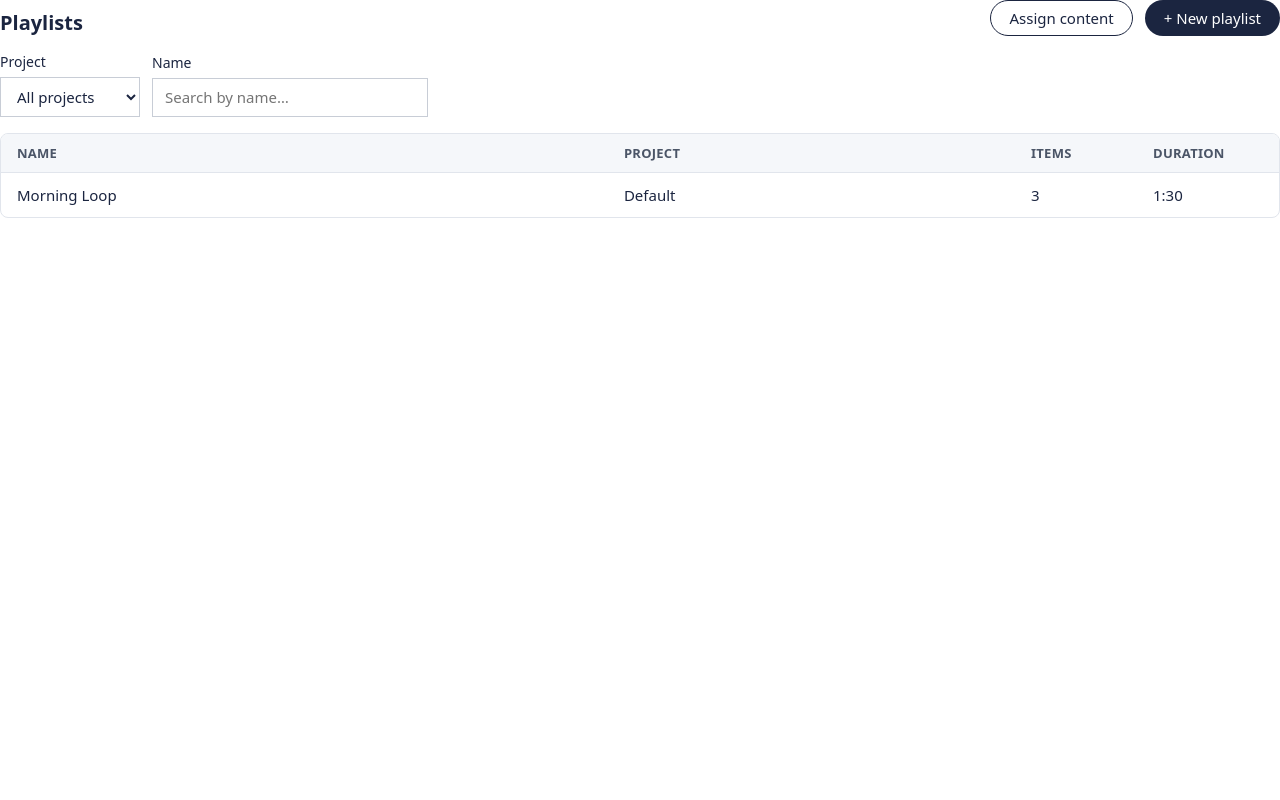
PlaylistsPage — reorder wiring › rolls back to the server order and shows the backend message verbatim on 400
Step 1. Click the text "Morning Loop" → (67, 195), box [1,172,608,217]
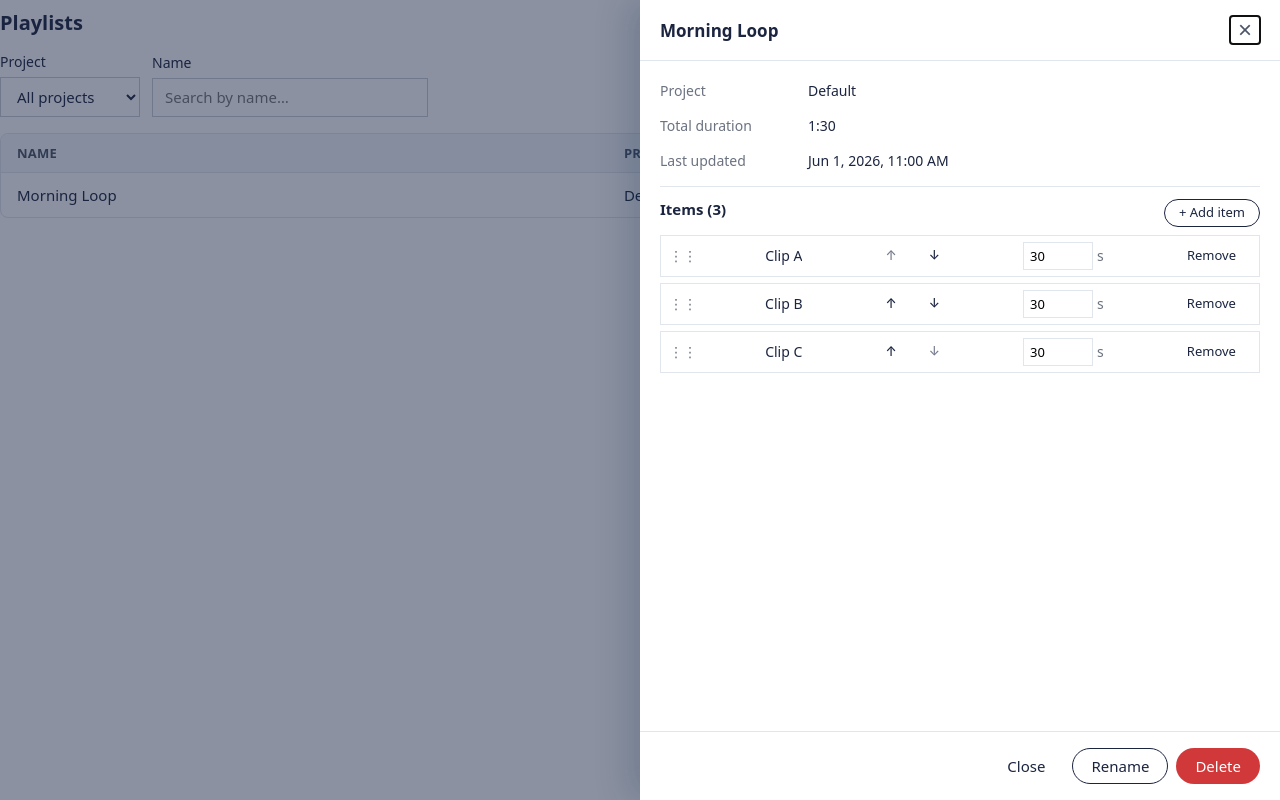
Expected: the option with aria-label "Clip A — position 1 of 3" is shown, [660,235,1260,277]
Step 2. Click the button titled "Move down" next to "Clip A" → (934, 256), box [914,242,955,269]
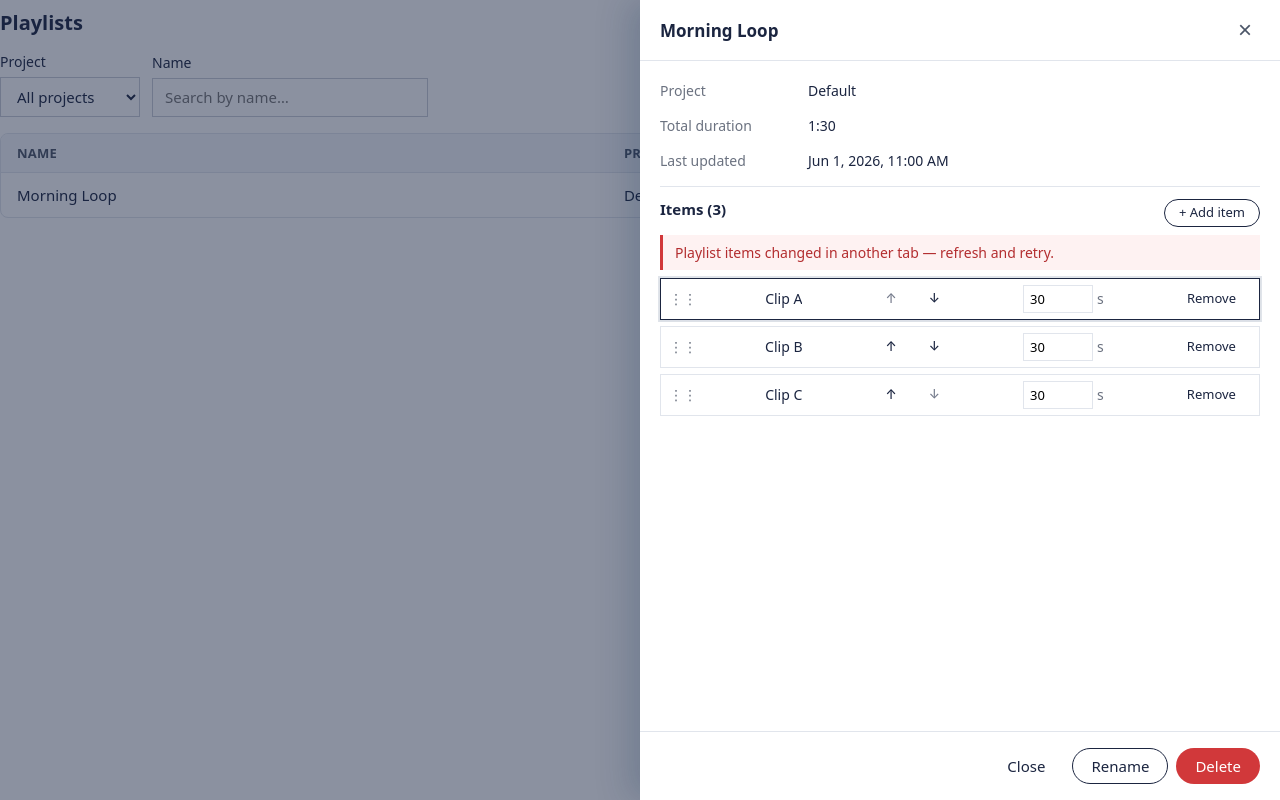
Expected: the text "Playlist items changed in another tab — refresh and retry." is shown, [660,235,1260,270]
